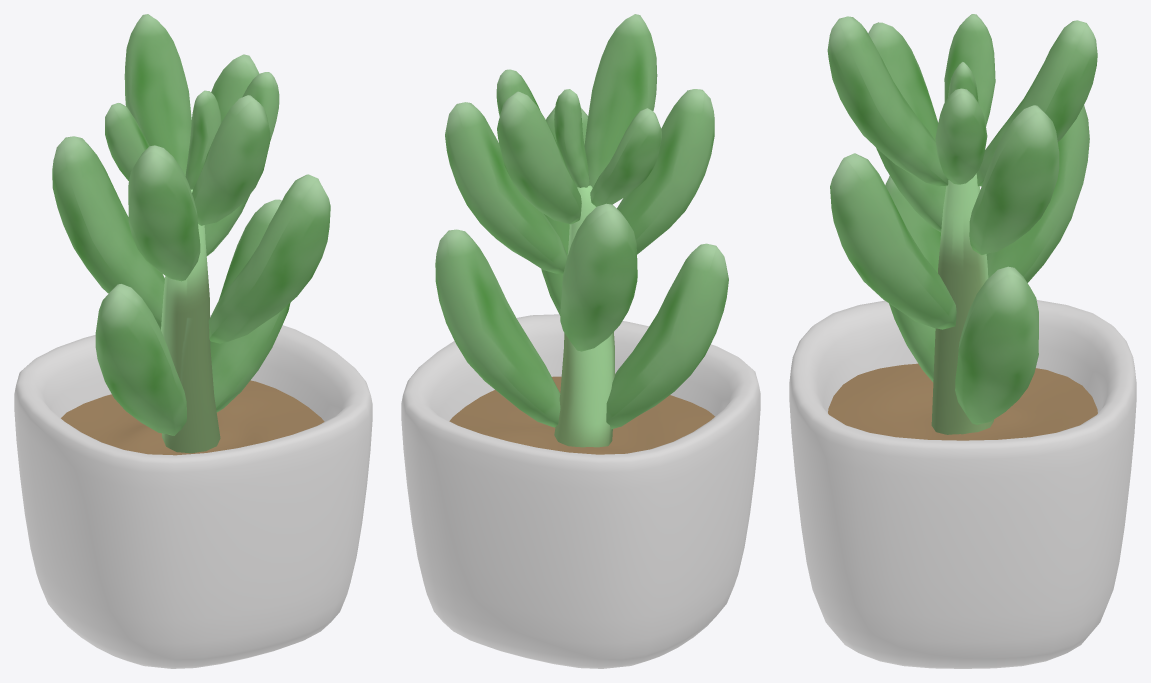
File: plant-8.glb
3 renders of one model, left to right at view 1: azimuth 30°, elevation 25°; view 2: azimuth 150°, elevation 25°; view 3: azimuth 270°, elevation 25°, orthographic. The views are drawn at different scales.
Parts seen in each view (by area): view 1: Pot004, uni; view 2: Pot004, uni; view 3: Pot004, uni.
Boxes of the visible parts, box(x1,y1,x2,y2) form: Pot004: box(14, 315, 372, 668); uni: box(52, 14, 330, 453); Pot004: box(401, 314, 760, 668); uni: box(435, 14, 728, 447); Pot004: box(789, 300, 1136, 668); uni: box(827, 14, 1097, 434).
Bounding box in the file's own units: 0.5765 × 1.07 × 0.5514.
Materials: 3 (1 with a texture image).
